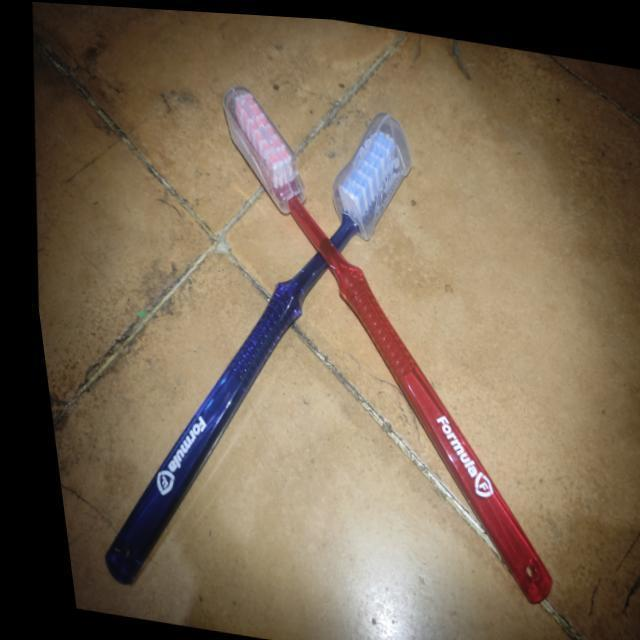toothbrush: (198, 59, 558, 640), (80, 94, 439, 609)
